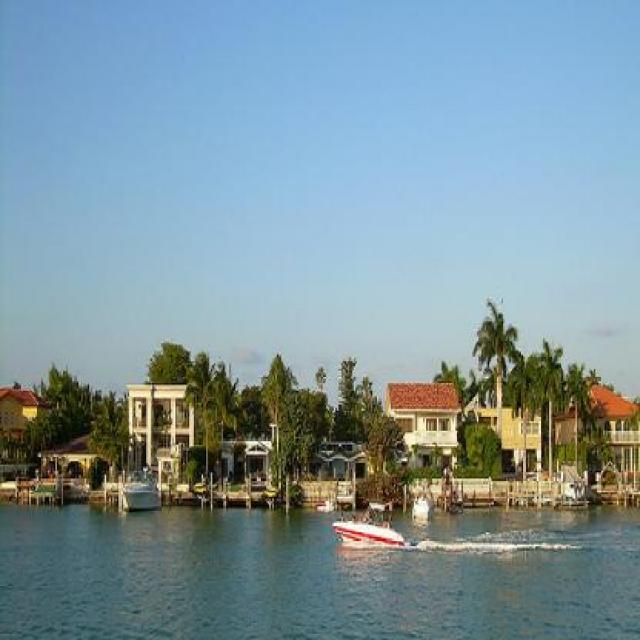ship: (328, 516, 399, 549), (117, 472, 158, 510), (409, 490, 434, 524)
